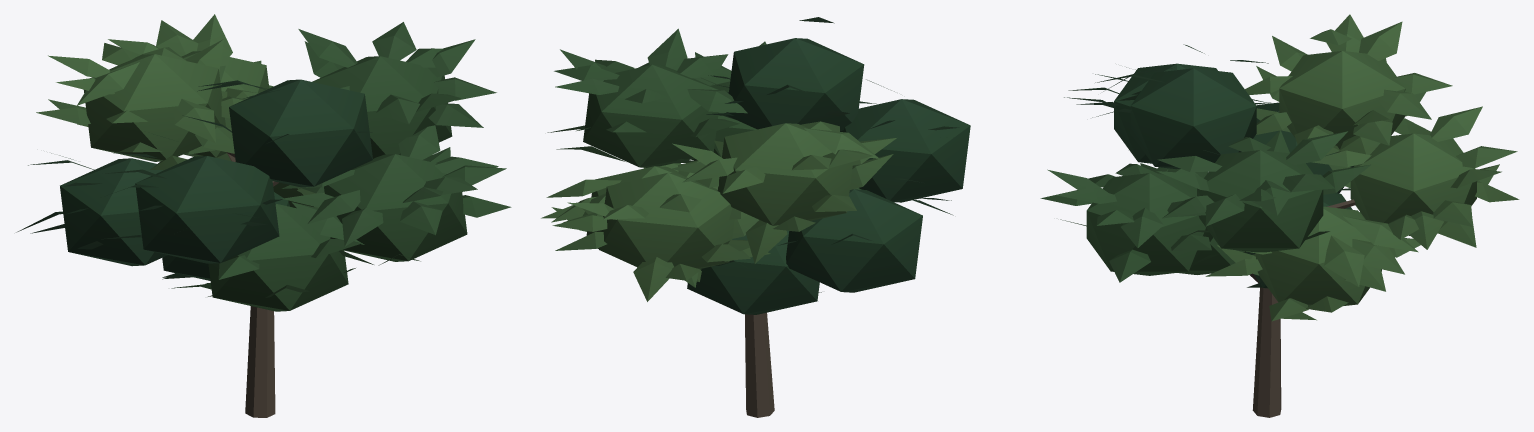
The model's file is tree-broadleaf-3-lod0.glb.
3 views of the same model, side by side, from view 1: azimuth 30°, elevation 25°; view 2: azimuth 150°, elevation 25°; view 3: azimuth 270°, elevation 25° (orthographic). The views are drawn at different scales.
Parts seen in each view (by area): view 1: tree-broadleaf-3.007; view 2: tree-broadleaf-3.007; view 3: tree-broadleaf-3.007.
Part boxes in pixels (box(x1,y1,x2,y2)): tree-broadleaf-3.007: box(16, 14, 511, 417); tree-broadleaf-3.007: box(541, 17, 970, 417); tree-broadleaf-3.007: box(1040, 14, 1519, 417).
Size of the model in its own units: 6.94 by 5.68 by 7.14.
